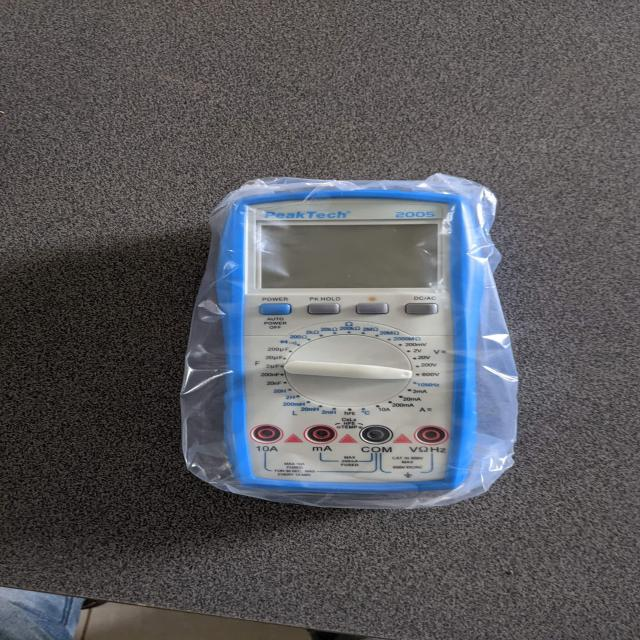Digital Multimeter: (187, 176, 510, 498)
